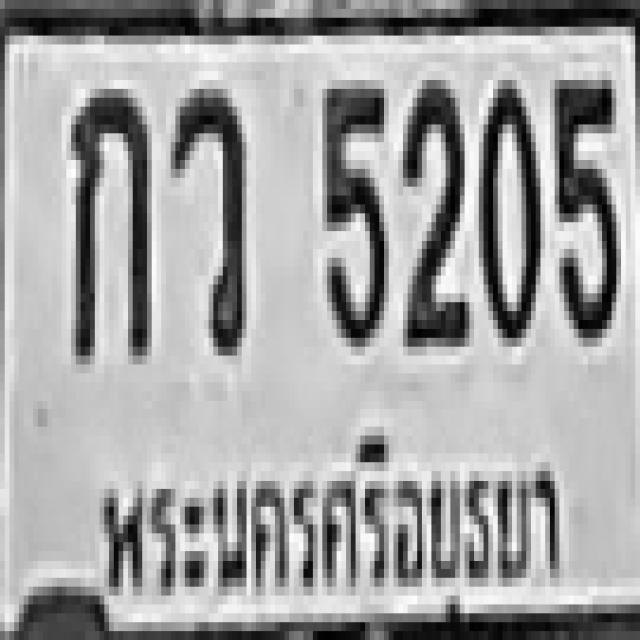0: (474, 71, 536, 338)
10GorGai: (66, 80, 147, 356)
2: (398, 71, 465, 338)
46WorWaen: (166, 80, 242, 347)
5: (318, 71, 384, 338), (550, 71, 616, 338)
Ayutthaya: (92, 411, 583, 623)
